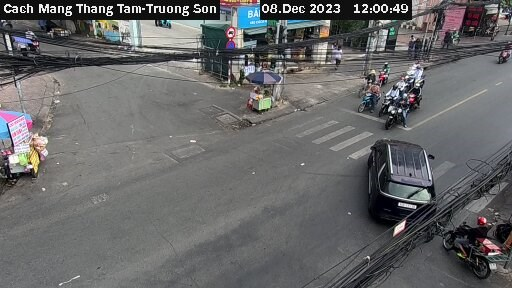car: (362, 135, 443, 226)
motorbike: (448, 214, 504, 277), (380, 101, 416, 130), (358, 83, 382, 114), (490, 41, 511, 69), (374, 60, 394, 81)
